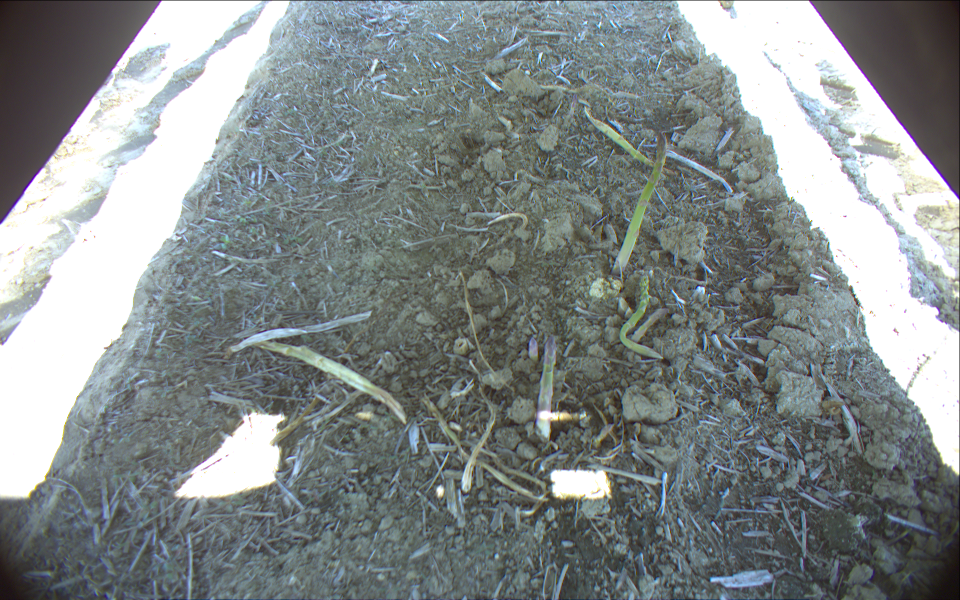aspa: (608, 127, 670, 281), (534, 335, 557, 443)
